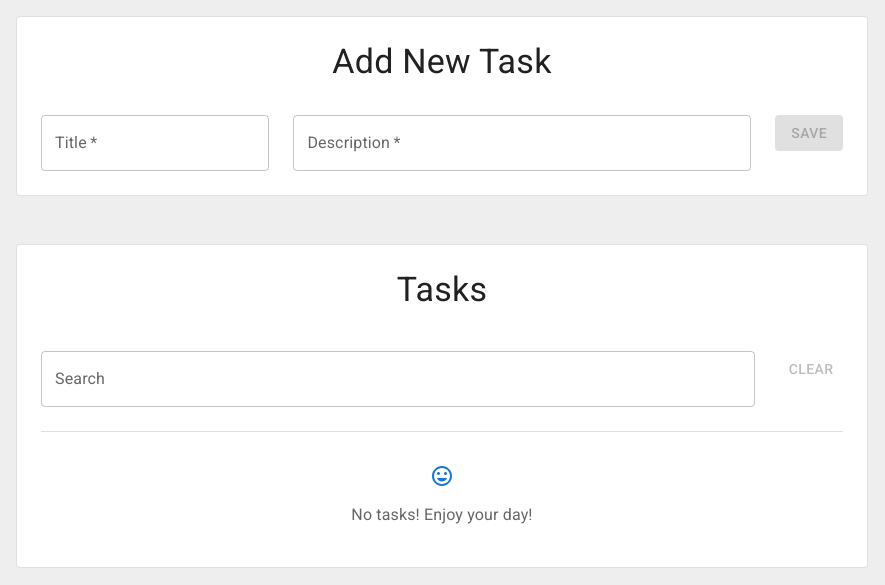
Test: can add a task to the list
Type "title" into the field with test id "task-title" at (155, 143), box [41,115,269,171]
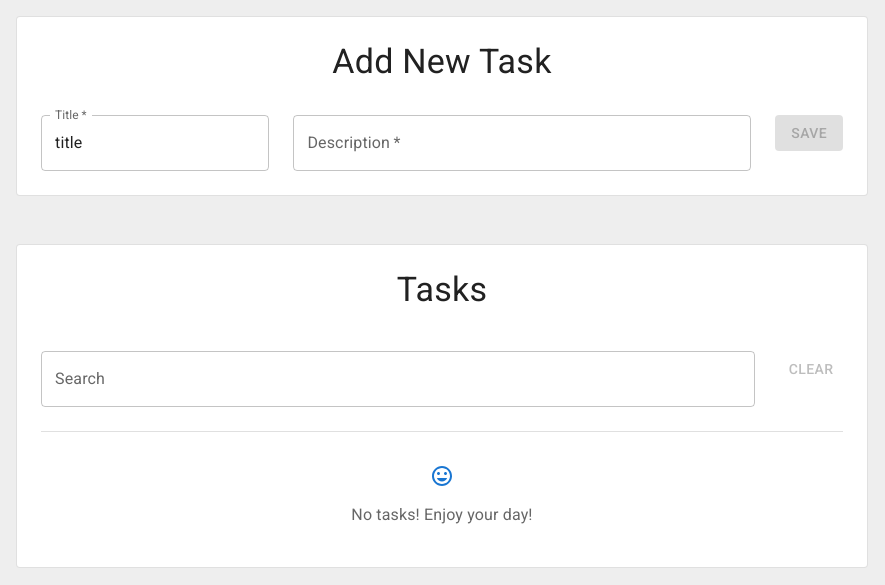
Type "descriptionnnn" into the text box with test id "task-description" at (522, 143), box [307,132,737,154]
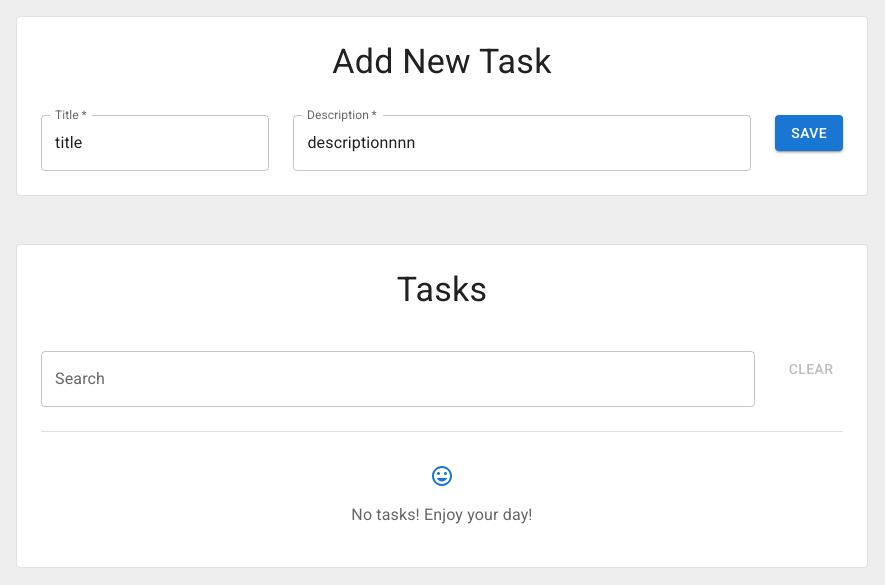
Click the button "Save" at (809, 133), box [775,115,843,152]
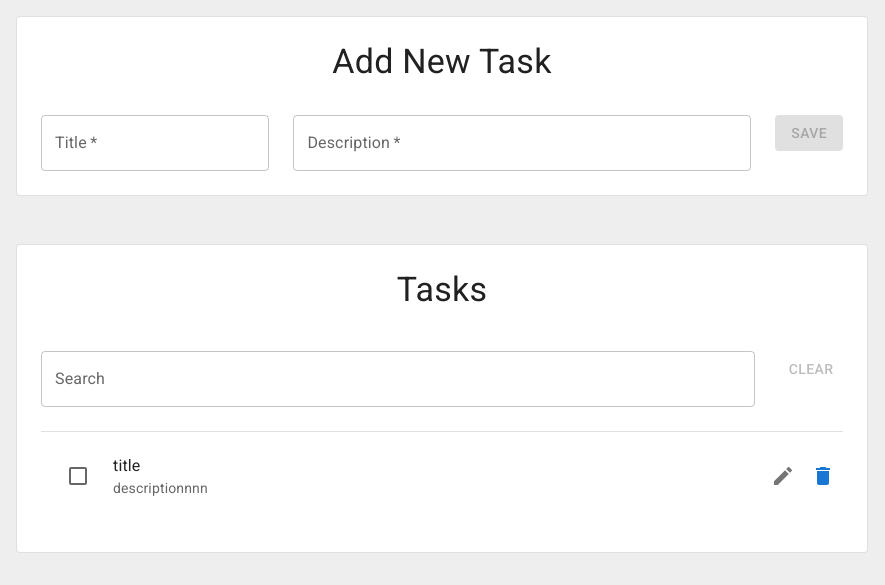
Now the text "title" is shown, box [113,456,140,475]
